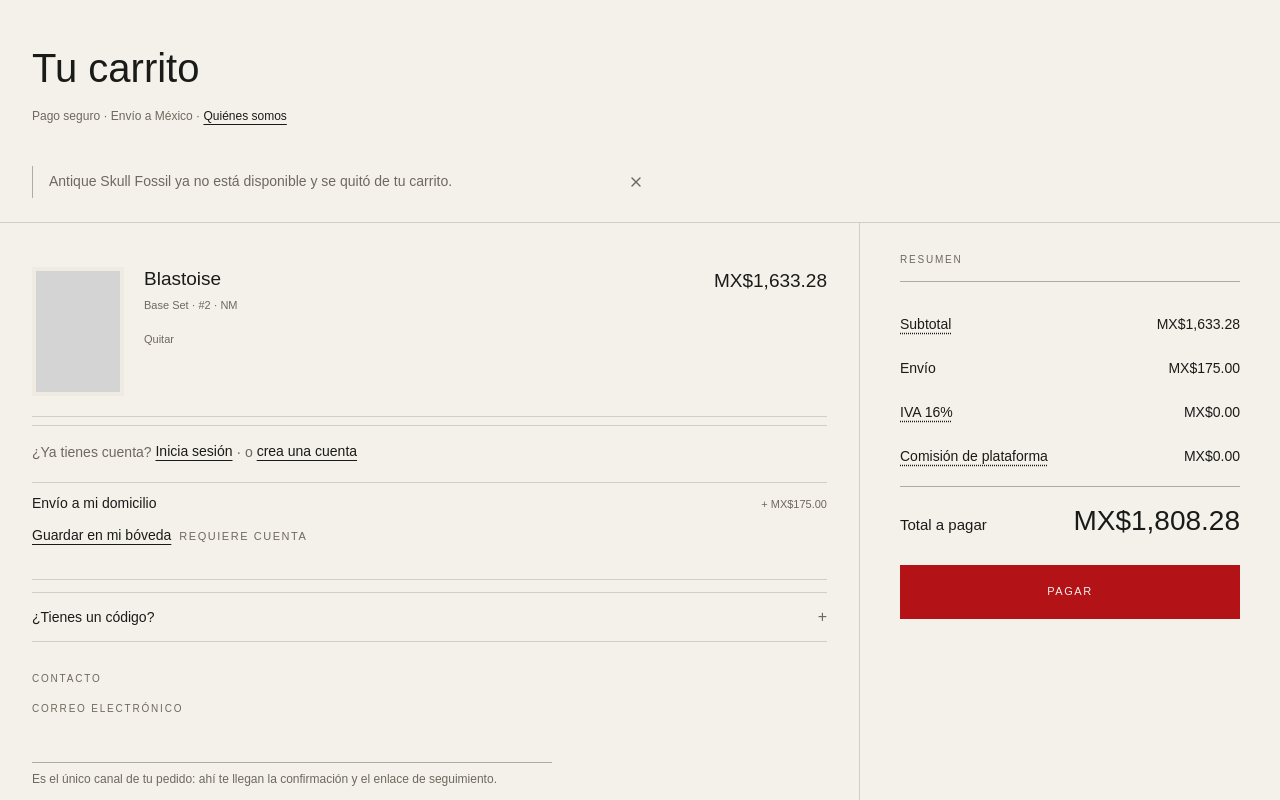
it: checkout · poda amable de piezas muertas (v1.21.3-quote-prune) › el aviso se puede cerrar (y solo entonces desaparece)
Expected: the element with test id "unavailable-notice" is shown, [0,166,680,198]
Click the button named "Cerrar aviso" at (636, 182), box [624,170,648,194]
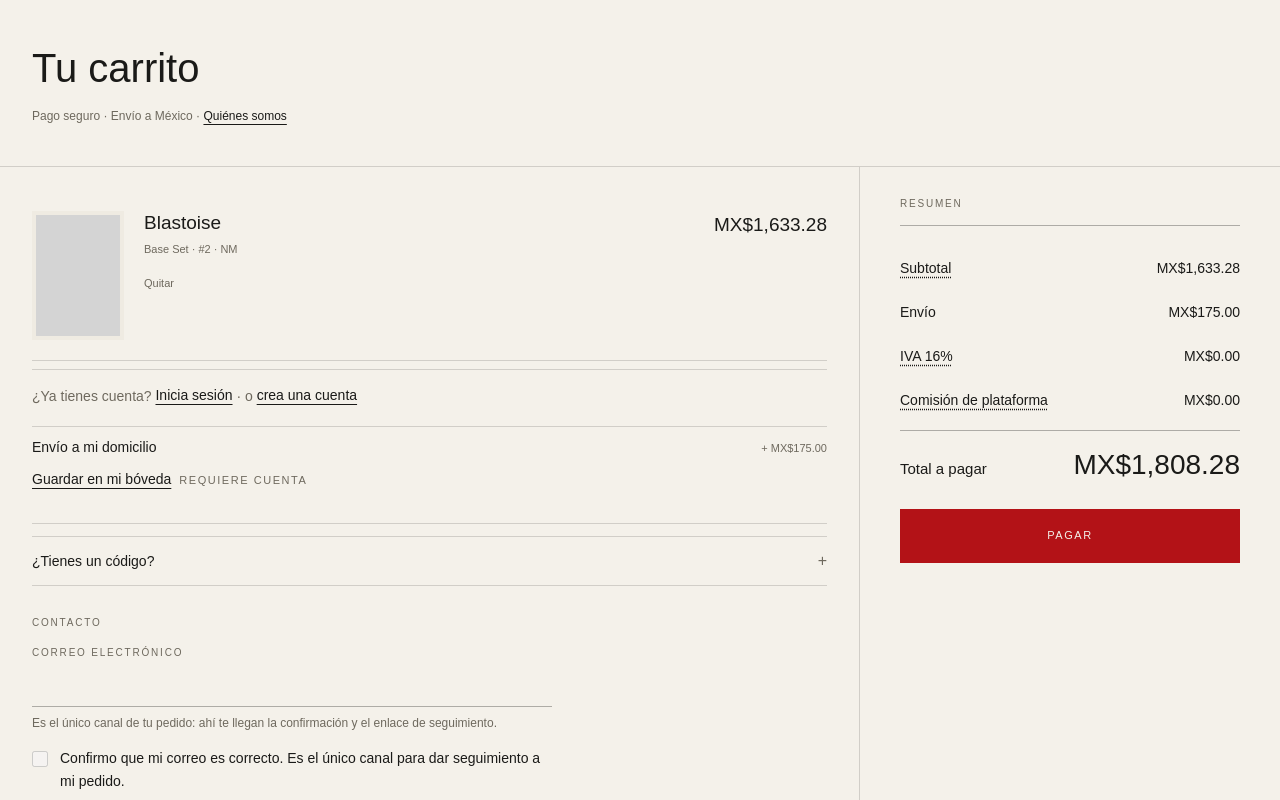
Expected: the element with test id "unavailable-notice" is gone
